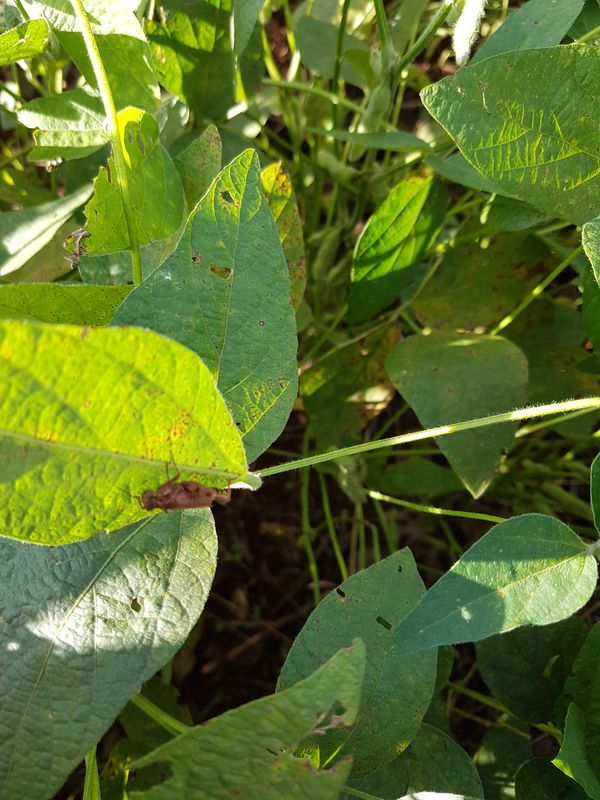Rhammatocerus_schistocercoides: (124, 448, 238, 530)
